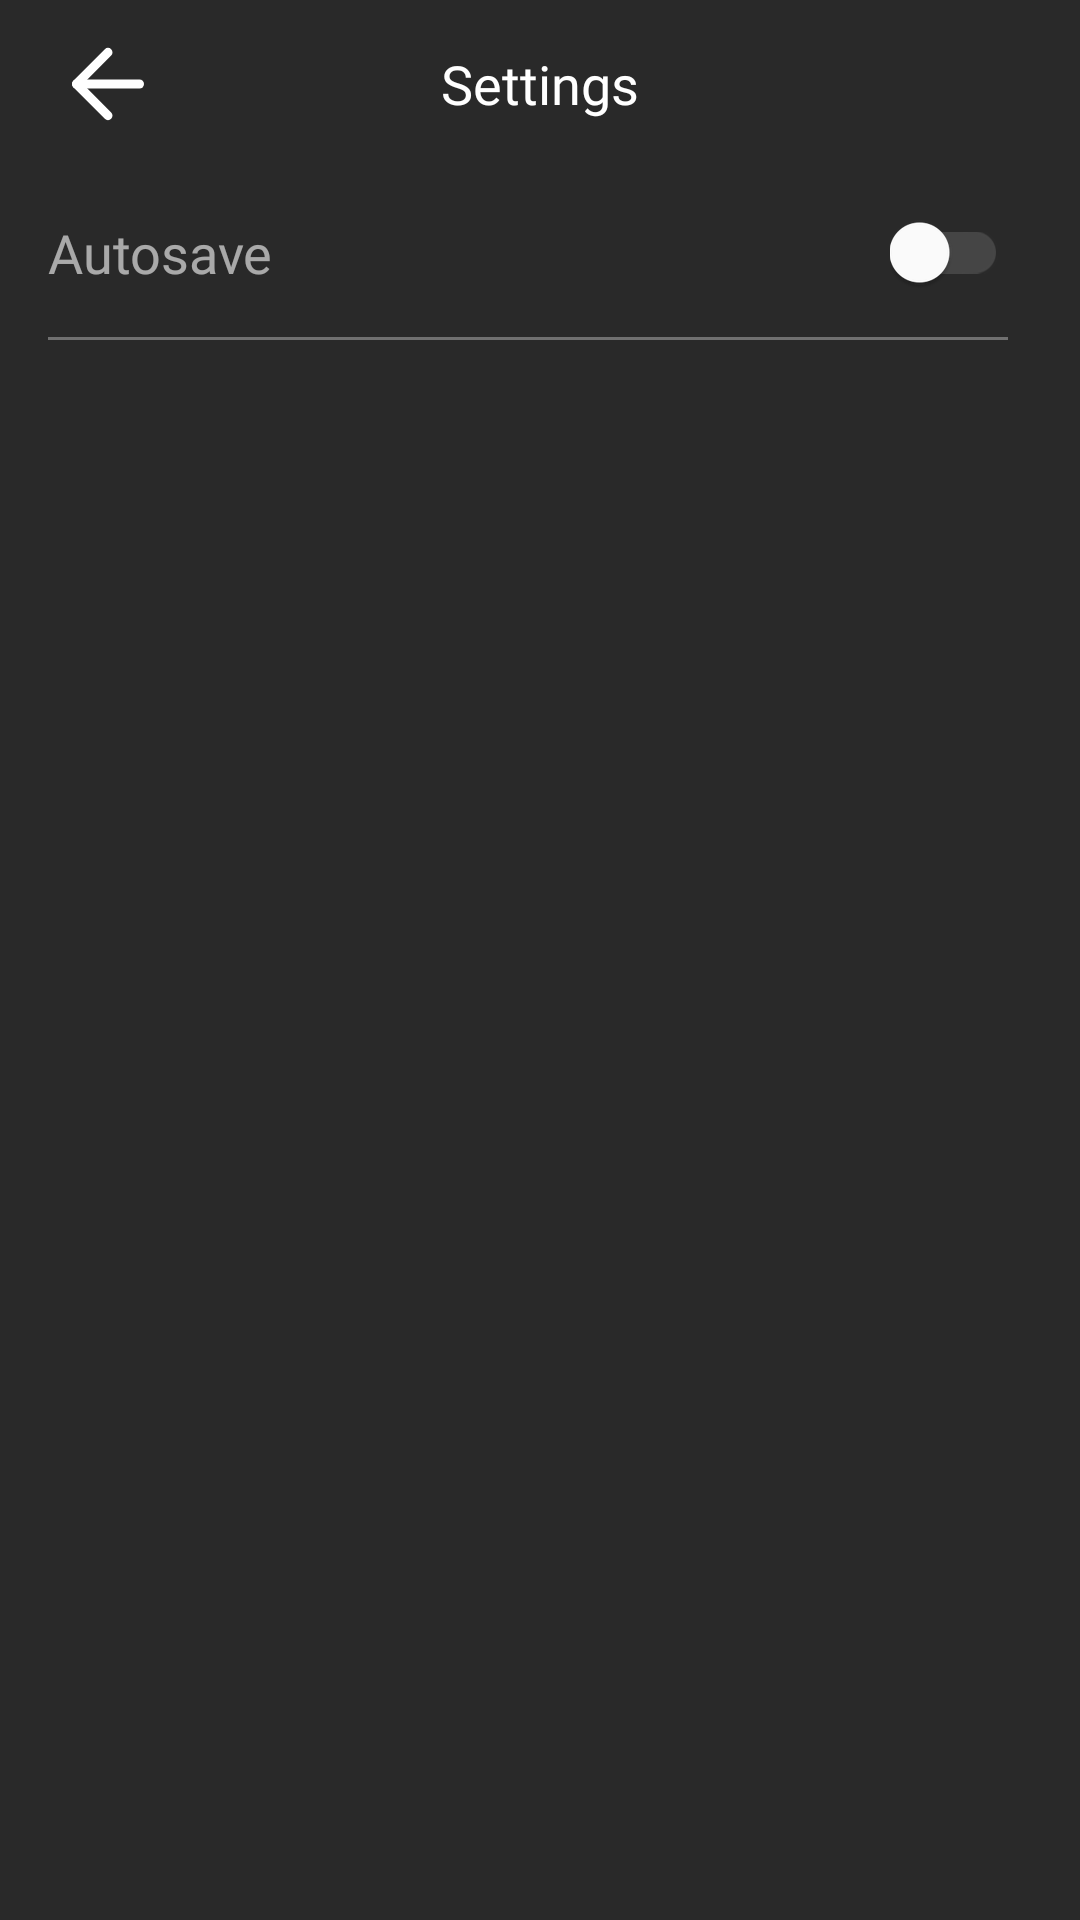

Locate icon controls on the screen. Image size 1080*1920, boxes as (x1, y1, x2, y2).
back: (72, 47, 144, 120)
